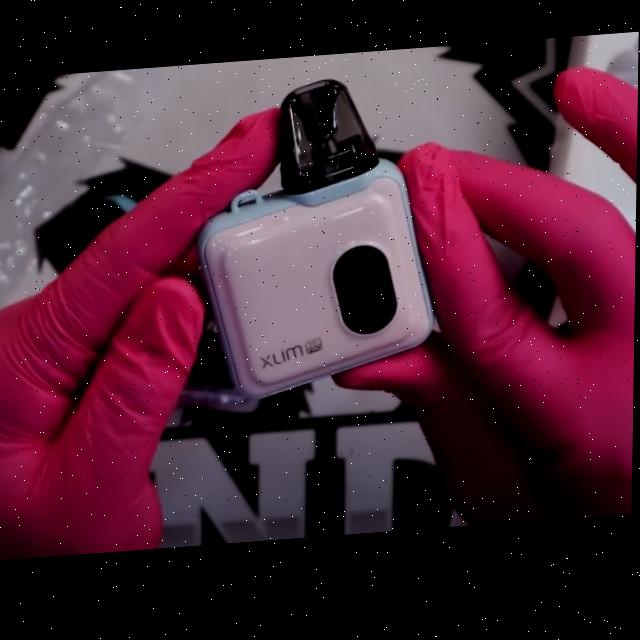vape: (196, 77, 440, 410)
